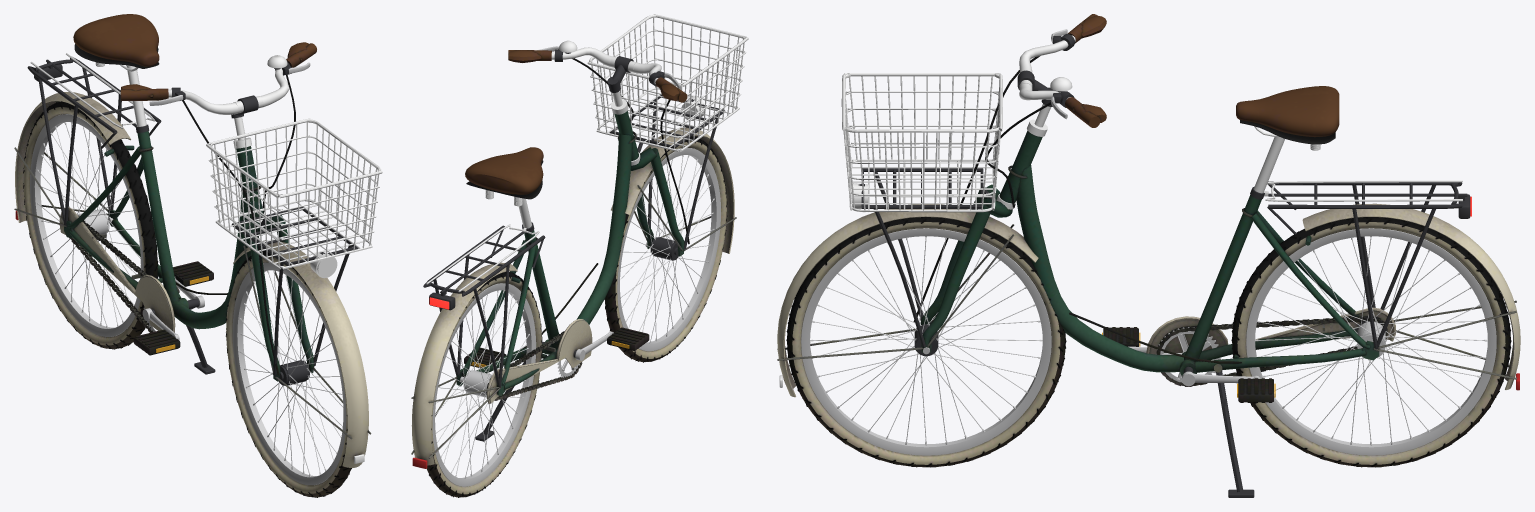
Rendered from city-bicycle.fbx.
3 renders of one model, left to right at view 1: azimuth 30°, elevation 25°; view 2: azimuth 150°, elevation 25°; view 3: azimuth 270°, elevation 25°, orthographic. The views are drawn at different scales.
Visible parts, largest first — view 1: body, handlebar_fittings, handlebar_mesh, wheel_F_fittings, wheel_R_fittings, wheel_R_mesh, fittings, wheel_F_mesh, pedal_R_mesh, cranks_fittings, pedal_L_mesh, kickstand_fittings; view 2: body, handlebar_fittings, wheel_F_fittings, wheel_R_fittings, handlebar_mesh, fittings, wheel_F_mesh, wheel_R_mesh, pedal_R_mesh, cranks_fittings, kickstand_fittings; view 3: body, handlebar_fittings, wheel_F_fittings, wheel_R_fittings, handlebar_mesh, wheel_R_mesh, wheel_F_mesh, fittings, cranks_fittings, kickstand_fittings, pedal_L_mesh.
Part boxes in pixels (box(x1,y1,x2,y2)): body: box(14, 14, 263, 332); handlebar_fittings: box(149, 55, 382, 463); handlebar_mesh: box(120, 42, 371, 467); wheel_F_fittings: box(232, 262, 346, 485); wheel_R_fittings: box(30, 114, 143, 336); wheel_R_mesh: box(23, 101, 158, 349); fittings: box(15, 53, 161, 225); wheel_F_mesh: box(225, 250, 351, 497); pedal_R_mesh: box(133, 329, 180, 355); cranks_fittings: box(142, 277, 204, 340); pedal_L_mesh: box(173, 261, 213, 286); kickstand_fittings: box(186, 307, 215, 374); body: box(411, 110, 638, 465); handlebar_fittings: box(537, 14, 748, 249); wheel_F_fittings: box(617, 148, 720, 351); wheel_R_fittings: box(432, 283, 536, 486); handlebar_mesh: box(508, 50, 736, 256); fittings: box(412, 190, 545, 468); wheel_F_mesh: box(604, 136, 727, 362); wheel_R_mesh: box(427, 272, 542, 497); pedal_R_mesh: box(607, 327, 649, 350); cranks_fittings: box(503, 331, 613, 377); kickstand_fittings: box(475, 360, 525, 441); body: box(999, 86, 1520, 389); handlebar_fittings: box(779, 29, 1075, 387); wheel_F_fittings: box(801, 228, 1051, 455); wheel_R_fittings: box(1246, 228, 1496, 455); handlebar_mesh: box(777, 14, 1106, 397); wheel_R_mesh: box(1231, 217, 1511, 467); wheel_F_mesh: box(786, 217, 1066, 467); fittings: box(1250, 126, 1519, 390); cranks_fittings: box(1128, 327, 1260, 386); kickstand_fittings: box(1216, 371, 1254, 497); pedal_L_mesh: box(1238, 378, 1273, 402).
Size of the model in its own units: 62.54 by 115 by 187.
10 materials, 1 textured.
